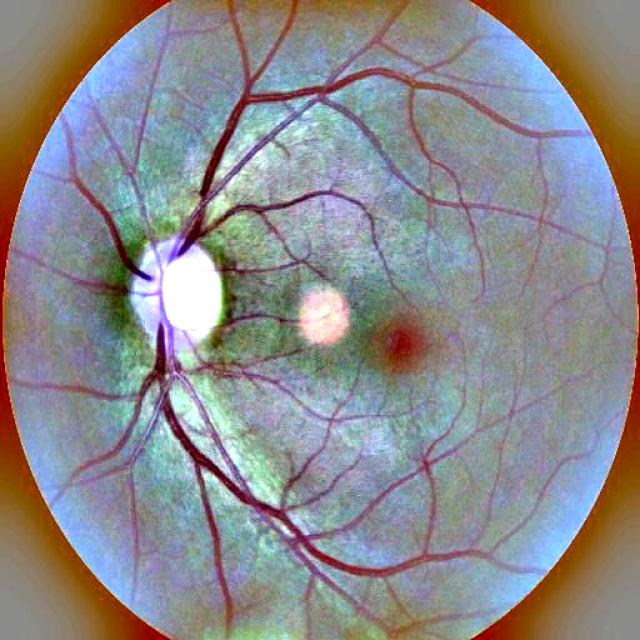Macula: (365, 317, 443, 385)
Nerves: (42, 290, 384, 572), (115, 91, 371, 279), (65, 121, 155, 279), (202, 500, 232, 626), (180, 330, 255, 380), (215, 259, 278, 292), (205, 293, 235, 348), (76, 280, 134, 299)
Optic Disk: (137, 244, 228, 358)
